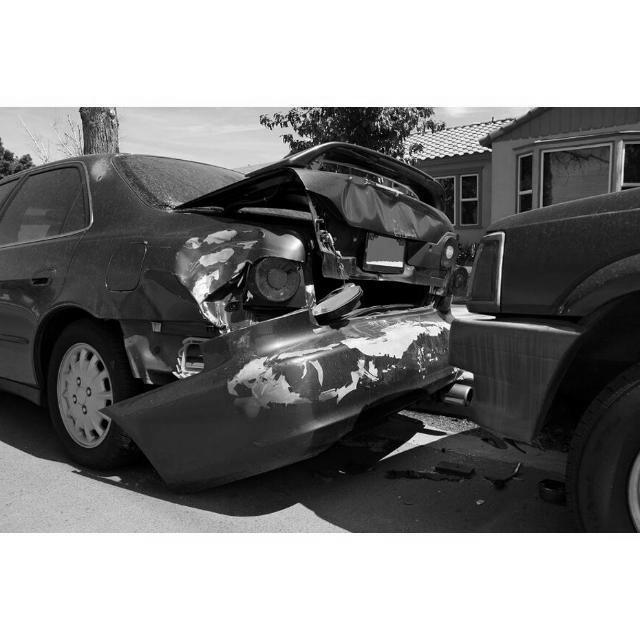quaterpanel-dent: (66, 228, 246, 347)
rear-bumper-dent: (124, 330, 391, 481)
